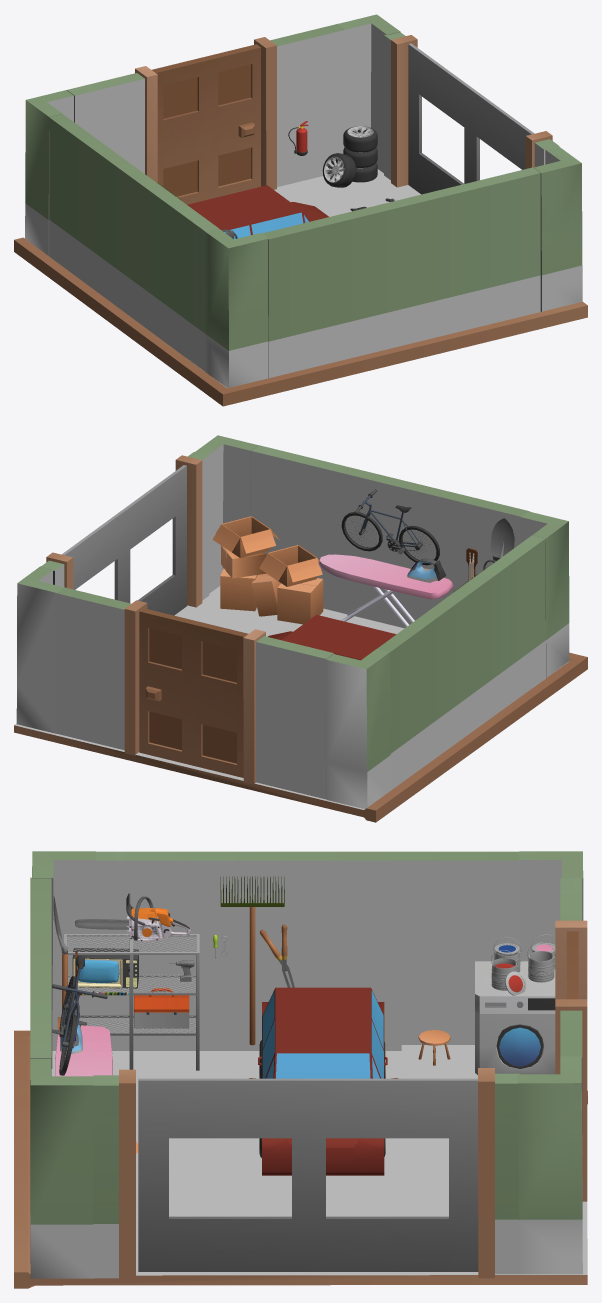
File: GARAJE completa color VERDE.fbx
3 renders of one model, top to bottom at view 1: azimuth 30°, elevation 25°; view 2: azimuth 150°, elevation 25°; view 3: azimuth 270°, elevation 25°, orthographic. The views are drawn at different scales.
Parts seen in each view (by area): view 1: paret_basica2, paret_basica4, paret_puerta2, puerta2, suelo, paret_esquina12, puerta_garaje, paret_esquina10, paret_esquina9, paret_garaje, paret_esquina_11, cotche (+1 smaller); view 2: paret_puerta2, paret_basica4, paret_basica2, puerta2, suelo, paret_esquina_11, cajas, puerta_garaje, paret_esquina9, paret_garaje, paret_esquina10, paret_esquina12 (+4 smaller); view 3: paret_basica4, puerta_garaje, suelo, paret_garaje, cotche, paret_esquina10, paret_esquina9, lavadora, paret_esquina12, paret_puerta2, estanteria, paret_esquina_11 (+11 smaller).
Boxes of the visible parts, x1=… form: paret_basica2: x1=262, y1=167, x2=540, y2=378; paret_basica4: x1=48, y1=114, x2=217, y2=371; paret_puerta2: x1=67, y1=24, x2=346, y2=189; puerta2: x1=152, y1=44, x2=260, y2=204; suelo: x1=14, y1=169, x2=587, y2=406; paret_esquina12: x1=205, y1=228, x2=268, y2=387; puerta_garaje: x1=408, y1=43, x2=534, y2=194; paret_esquina10: x1=534, y1=146, x2=582, y2=311; paret_esquina9: x1=336, y1=14, x2=400, y2=172; paret_garaje: x1=384, y1=32, x2=559, y2=187; paret_esquina_11: x1=25, y1=90, x2=73, y2=256; cotche: x1=187, y1=185, x2=328, y2=239; paret_puerta2: x1=55, y1=587, x2=333, y2=799; paret_basica4: x1=377, y1=535, x2=545, y2=790; paret_basica2: x1=251, y1=445, x2=529, y2=628; puerta2: x1=139, y1=608, x2=248, y2=777; suelo: x1=14, y1=586, x2=587, y2=822; paret_esquina_11: x1=326, y1=649, x2=390, y2=808; cajas: x1=212, y1=516, x2=323, y2=624; puerta_garaje: x1=62, y1=465, x2=186, y2=615; paret_esquina9: x1=16, y1=566, x2=65, y2=733; paret_garaje: x1=41, y1=452, x2=209, y2=607; paret_esquina10: x1=195, y1=435, x2=258, y2=593; paret_esquina12: x1=520, y1=511, x2=569, y2=677; paret_basica4: x1=95, y1=851, x2=521, y2=1050; puerta_garaje: x1=138, y1=1078, x2=478, y2=1271; suelo: x1=14, y1=1030, x2=587, y2=1288; paret_garaje: x1=93, y1=1068, x2=519, y2=1279; cotche: x1=249, y1=987, x2=398, y2=1175; paret_esquina10: x1=30, y1=1058, x2=94, y2=1278; paret_esquina9: x1=518, y1=1056, x2=582, y2=1274; lavadora: x1=475, y1=961, x2=555, y2=1074; paret_esquina12: x1=32, y1=851, x2=95, y2=1068; paret_puerta2: x1=555, y1=878, x2=587, y2=1201; estanteria: x1=63, y1=934, x2=199, y2=1070; paret_esquina_11: x1=519, y1=851, x2=583, y2=961.
Size of the model in its own units: 897 by 357 by 892.
